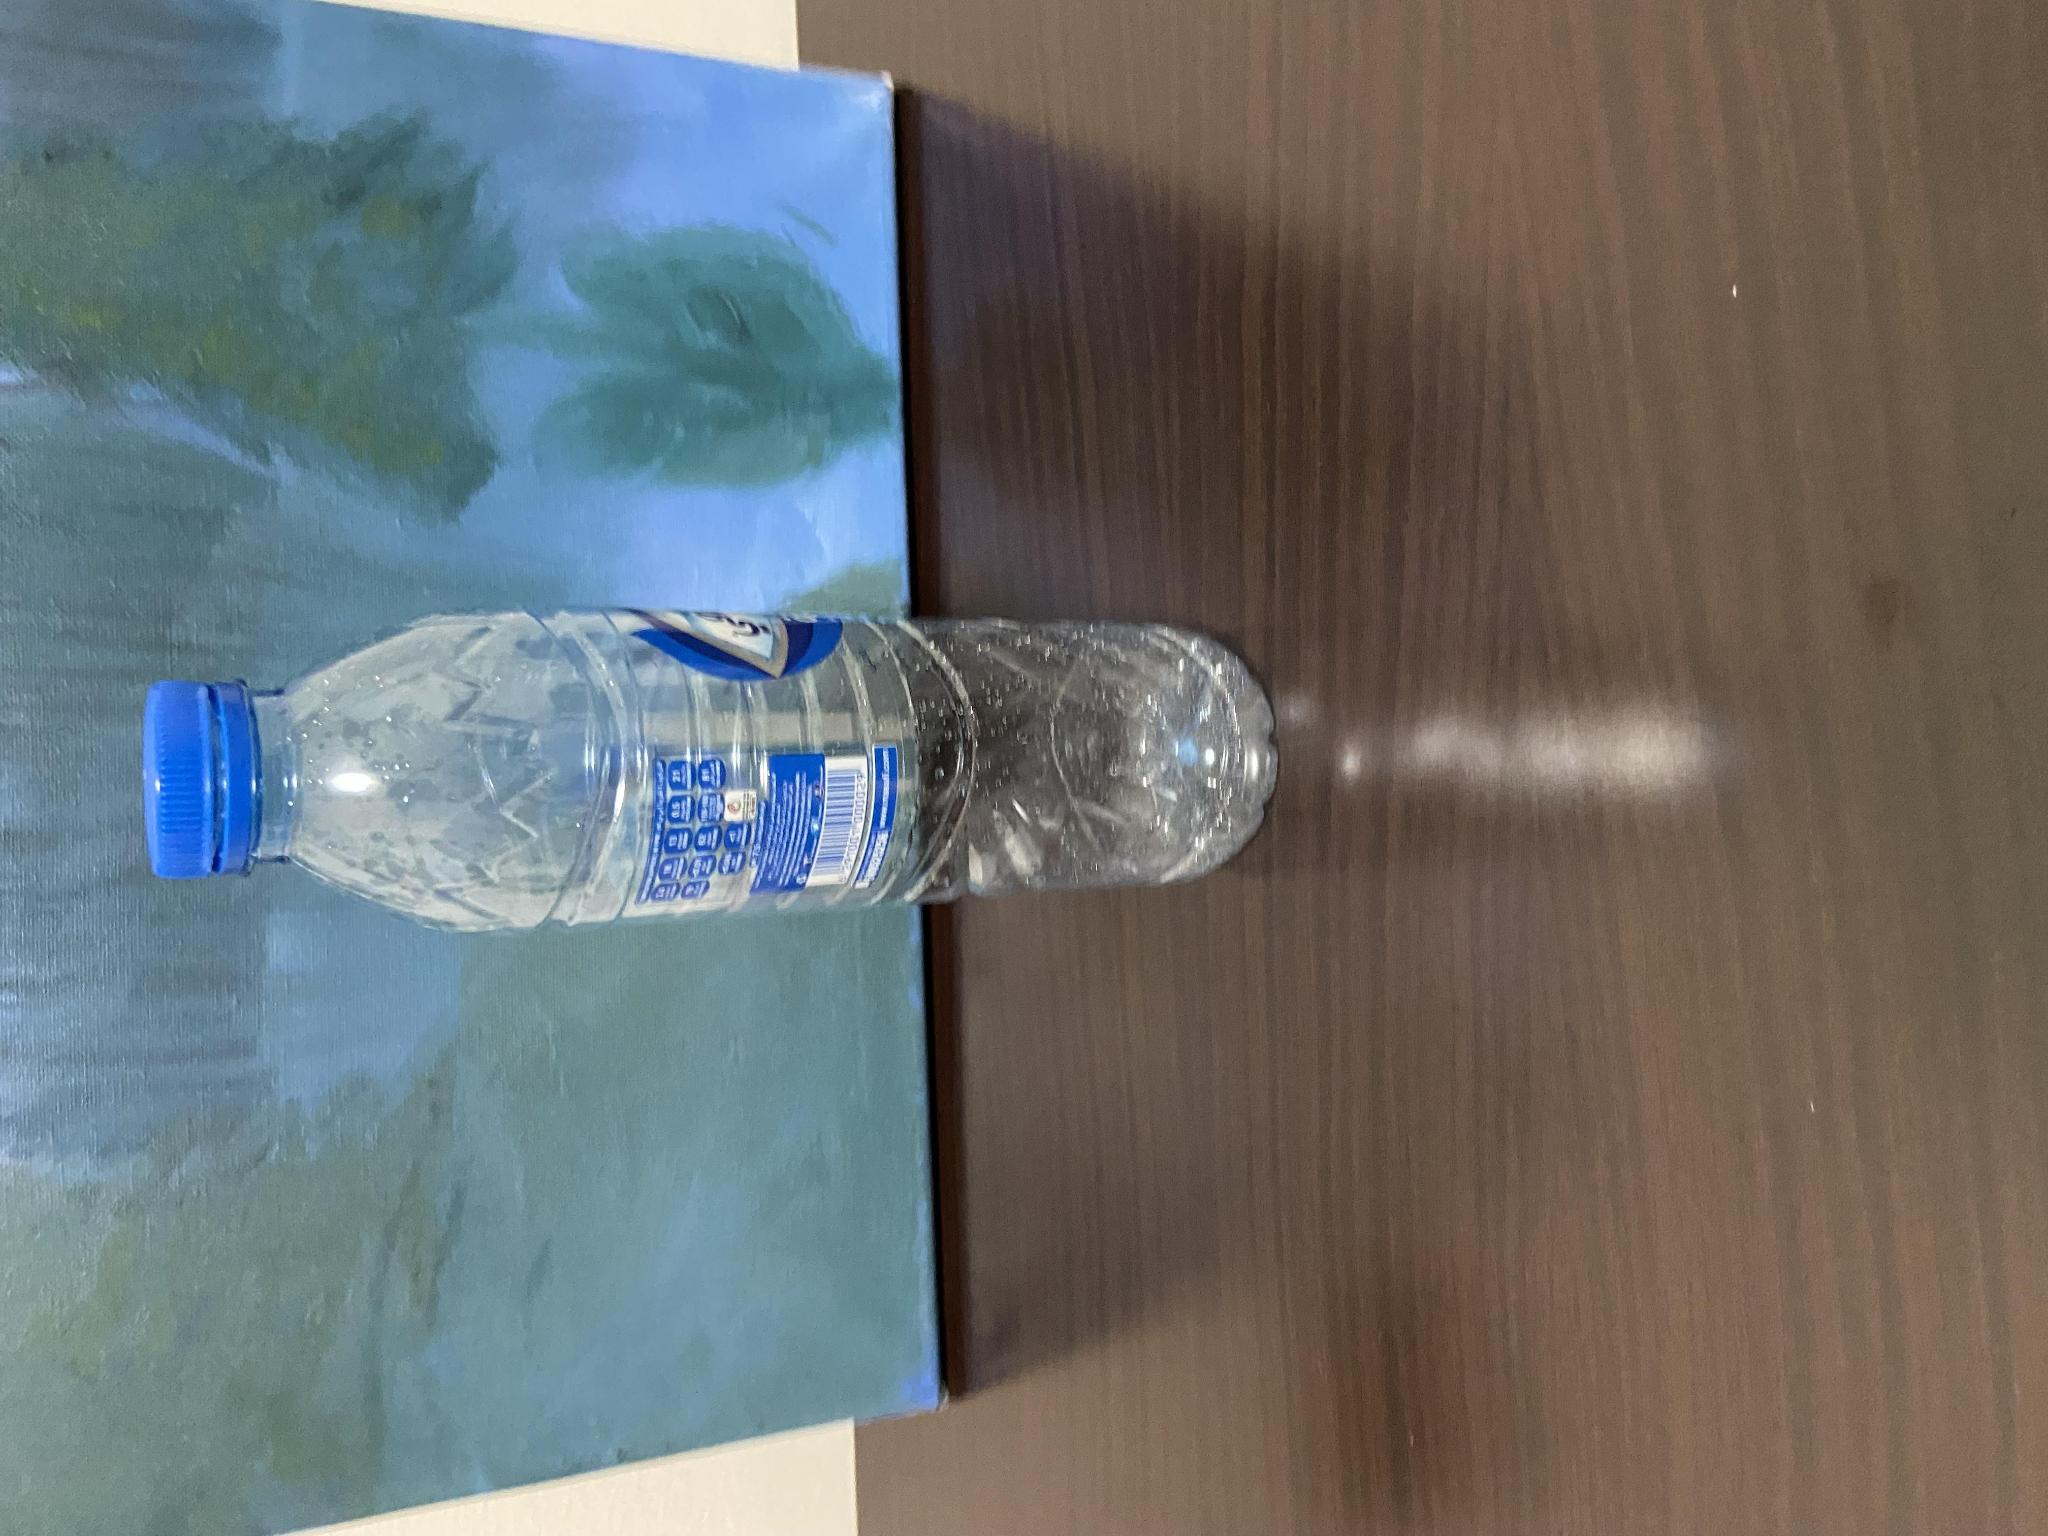bottle: (127, 587, 1282, 939)
